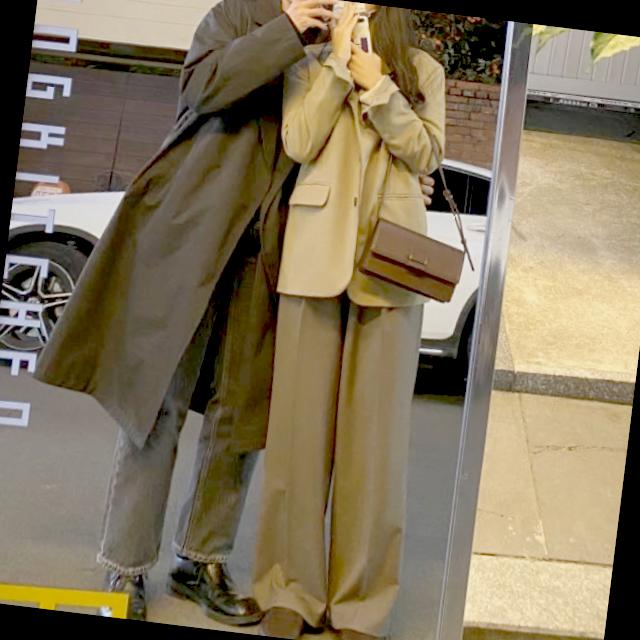blazer: (259, 31, 455, 315)
coat: (19, 0, 309, 464)
denimpants: (93, 192, 289, 588)
slacks: (238, 287, 434, 638)
